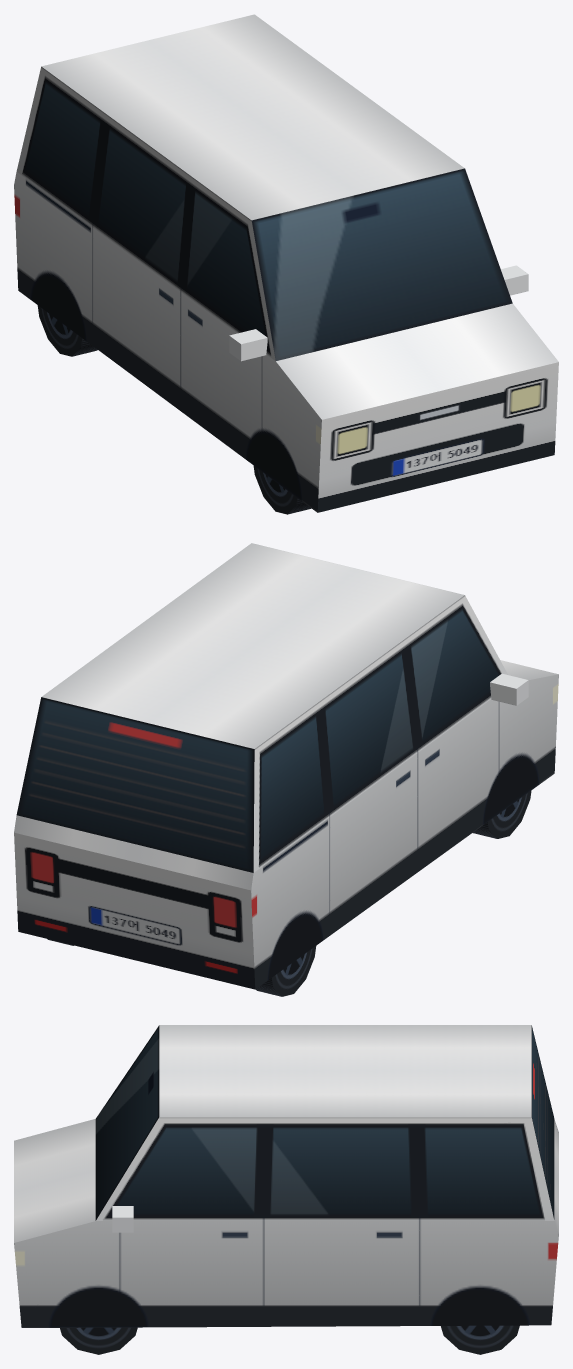
Rendered from car_ray.glb.
3 renders of one model, top to bottom at view 1: azimuth 30°, elevation 25°; view 2: azimuth 150°, elevation 25°; view 3: azimuth 270°, elevation 25°, orthographic. The views are drawn at different scales.
Parts seen in each view (by area): view 1: KoreanCar_Ray; view 2: KoreanCar_Ray; view 3: KoreanCar_Ray.
Part boxes in pixels (left/top/right/bottom): KoreanCar_Ray: left=14, top=14, right=558, bottom=514; KoreanCar_Ray: left=14, top=543, right=558, bottom=996; KoreanCar_Ray: left=14, top=1025, right=558, bottom=1354.
Bounding box in the file's own units: 1.94 × 1.7 × 3.6.
Materials: 1 (1 with a texture image).
